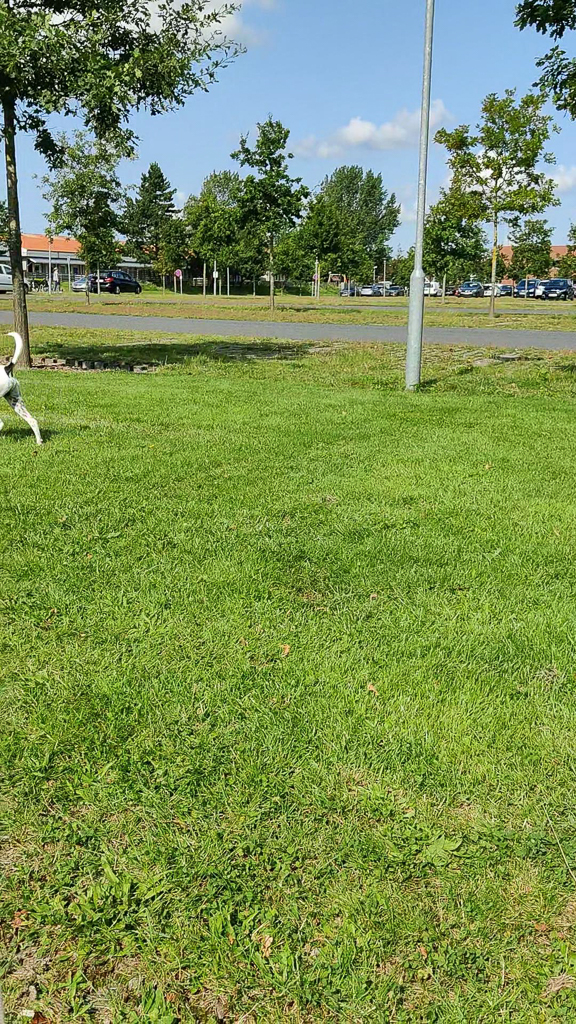Dog: (0, 328, 46, 449)
Humanoid: (50, 264, 63, 294)
